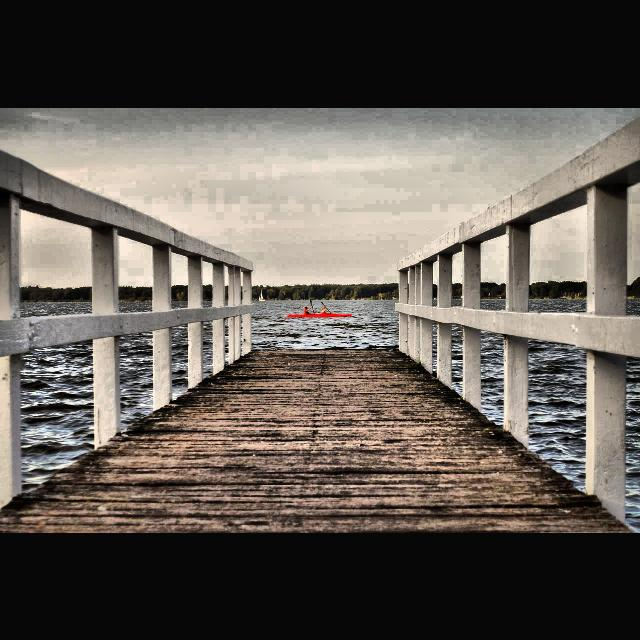kayak: (286, 314, 352, 318)
